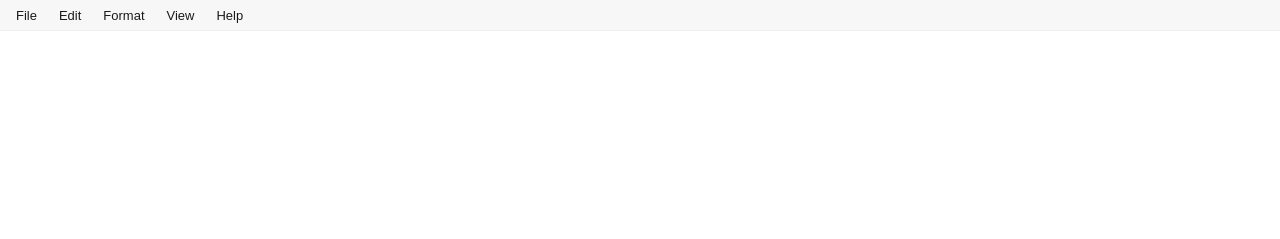
Test: AppMenu › shows check state for view toggle entries
Step 1. Click the button "View" → [180, 15], box top-left (156, 4), bottom-right (204, 26)
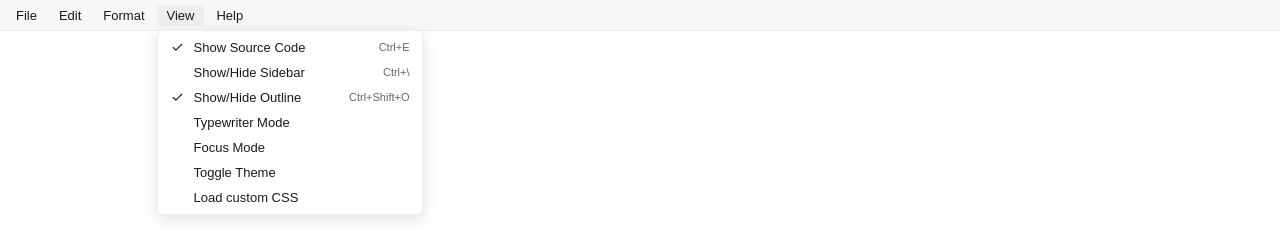
Result: the menu item "Toggle Theme" is shown at top-left (158, 160), bottom-right (422, 184)
